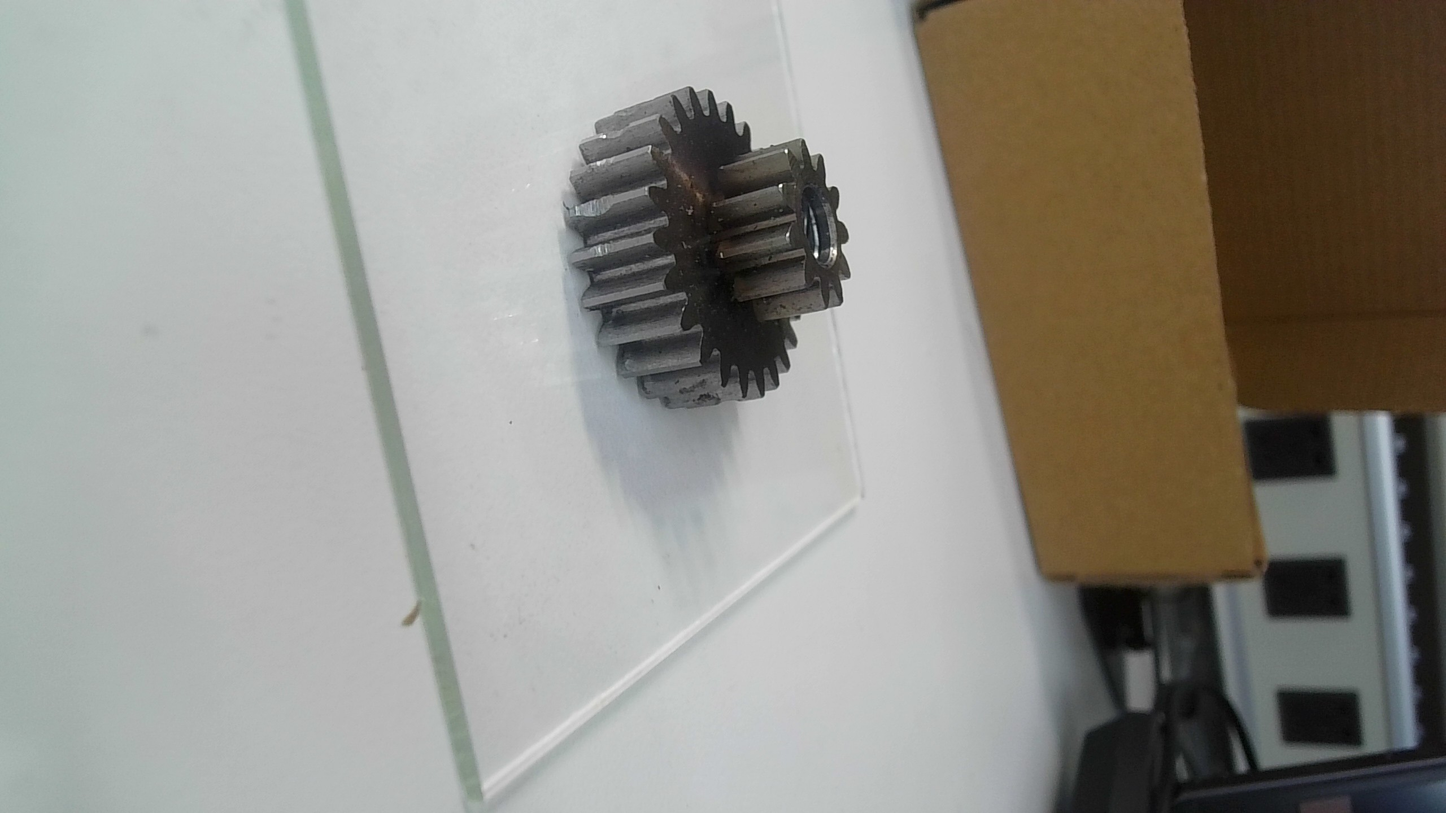gear: (565, 84, 853, 412)
